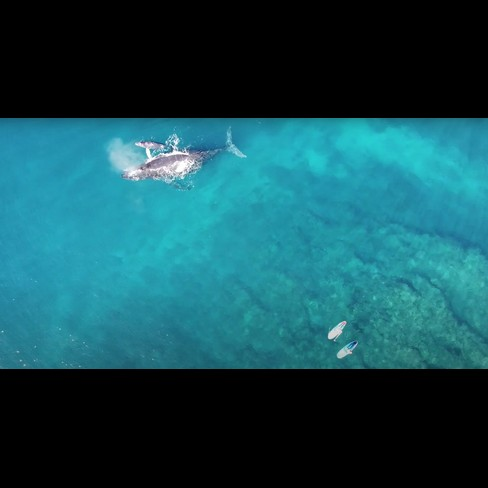hump: (117, 123, 251, 194), (130, 132, 174, 159)
